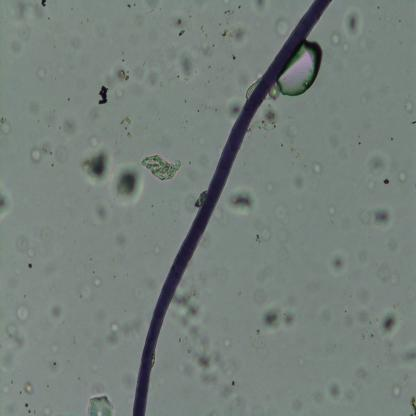Air bubble: (275, 40, 322, 96)
Background material: (172, 290, 251, 414), (111, 157, 144, 207), (80, 145, 113, 187), (143, 149, 181, 182), (130, 57, 160, 97), (107, 318, 146, 348), (264, 302, 298, 334), (78, 270, 108, 305), (189, 264, 228, 290), (326, 125, 354, 158), (361, 207, 397, 232), (226, 187, 258, 215), (175, 47, 198, 85), (344, 363, 366, 401), (92, 191, 114, 229), (378, 308, 404, 339), (342, 5, 364, 40), (274, 226, 294, 264), (364, 149, 390, 178), (389, 342, 416, 367), (86, 392, 114, 415), (270, 196, 290, 227), (329, 32, 352, 57), (5, 326, 28, 350), (221, 26, 248, 46), (56, 32, 81, 53), (13, 1, 47, 16), (379, 259, 399, 284), (0, 187, 14, 222), (262, 103, 280, 130), (15, 22, 35, 45), (113, 61, 132, 85), (50, 143, 69, 167), (59, 116, 79, 137), (129, 282, 147, 305), (234, 68, 251, 92), (115, 117, 134, 138), (329, 252, 347, 274), (358, 59, 376, 81), (170, 15, 186, 39), (251, 336, 269, 356), (197, 43, 214, 64), (284, 121, 301, 142), (227, 96, 241, 121), (353, 308, 374, 324), (184, 190, 200, 211), (253, 224, 271, 242), (289, 144, 306, 163), (276, 16, 290, 39), (0, 114, 14, 137), (86, 103, 102, 123), (113, 226, 128, 247), (290, 168, 304, 190), (83, 131, 99, 150), (328, 381, 342, 402), (14, 304, 30, 322), (252, 287, 268, 305), (354, 33, 369, 52), (291, 394, 306, 413), (7, 38, 22, 57), (309, 386, 324, 404), (202, 75, 226, 86), (32, 64, 48, 80), (97, 85, 109, 106), (327, 203, 341, 221), (259, 178, 277, 192), (25, 101, 41, 116), (22, 380, 36, 397), (109, 85, 126, 99), (356, 289, 370, 306), (254, 0, 272, 13), (47, 356, 60, 374), (88, 360, 102, 376), (39, 226, 55, 240), (249, 120, 261, 138), (168, 196, 180, 214), (74, 260, 86, 278), (29, 148, 43, 163), (357, 247, 369, 264), (56, 61, 68, 78), (146, 275, 158, 292), (50, 304, 62, 321), (359, 330, 375, 342), (292, 197, 304, 213), (19, 402, 32, 416), (24, 245, 37, 259), (0, 383, 13, 397), (407, 396, 416, 416), (150, 238, 161, 254), (366, 180, 380, 192), (403, 98, 414, 113), (221, 334, 232, 349), (142, 0, 158, 10), (18, 236, 28, 252), (312, 163, 324, 176), (342, 312, 353, 326), (398, 169, 408, 183), (360, 90, 370, 104), (40, 404, 51, 416), (392, 385, 402, 398), (270, 86, 280, 99), (198, 132, 206, 148), (224, 8, 233, 22), (109, 322, 119, 334), (50, 343, 60, 355), (351, 178, 360, 189), (200, 26, 208, 37), (13, 264, 21, 275), (229, 52, 236, 61), (382, 178, 391, 184), (26, 262, 32, 271), (125, 2, 132, 8), (195, 106, 201, 113), (357, 138, 362, 146), (120, 50, 126, 56), (85, 18, 91, 24), (409, 120, 416, 125), (376, 4, 381, 10), (52, 106, 56, 113), (184, 98, 188, 104), (79, 20, 83, 26), (150, 202, 154, 208), (68, 97, 71, 104), (377, 16, 382, 20), (120, 58, 124, 63), (389, 136, 393, 141), (398, 19, 401, 23), (238, 6, 241, 9)
Microfibre: (131, 0, 335, 414)
